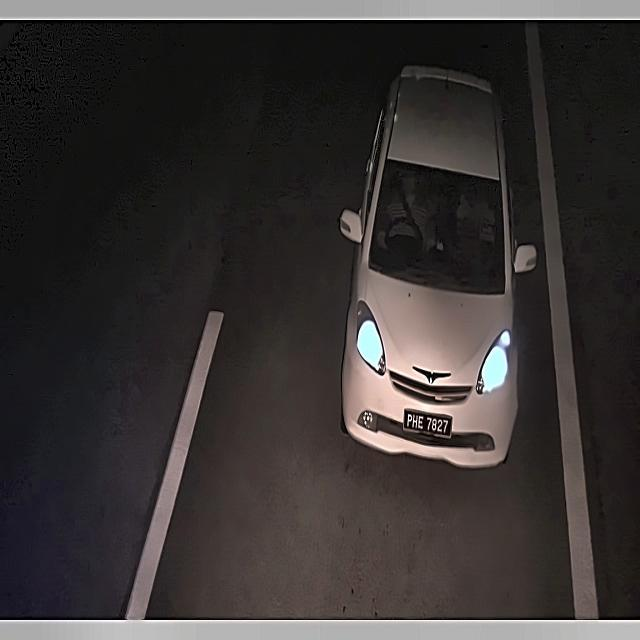car: (402, 400, 454, 441)
